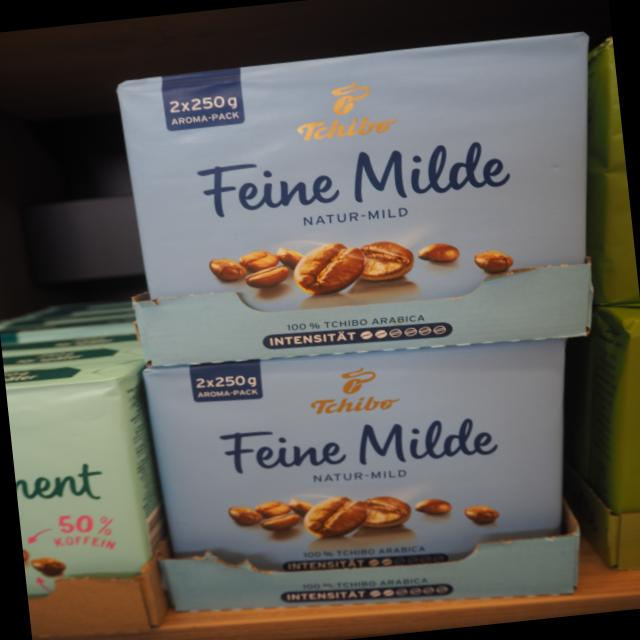FM Gemahlen: (113, 26, 592, 366), (139, 337, 572, 615)
